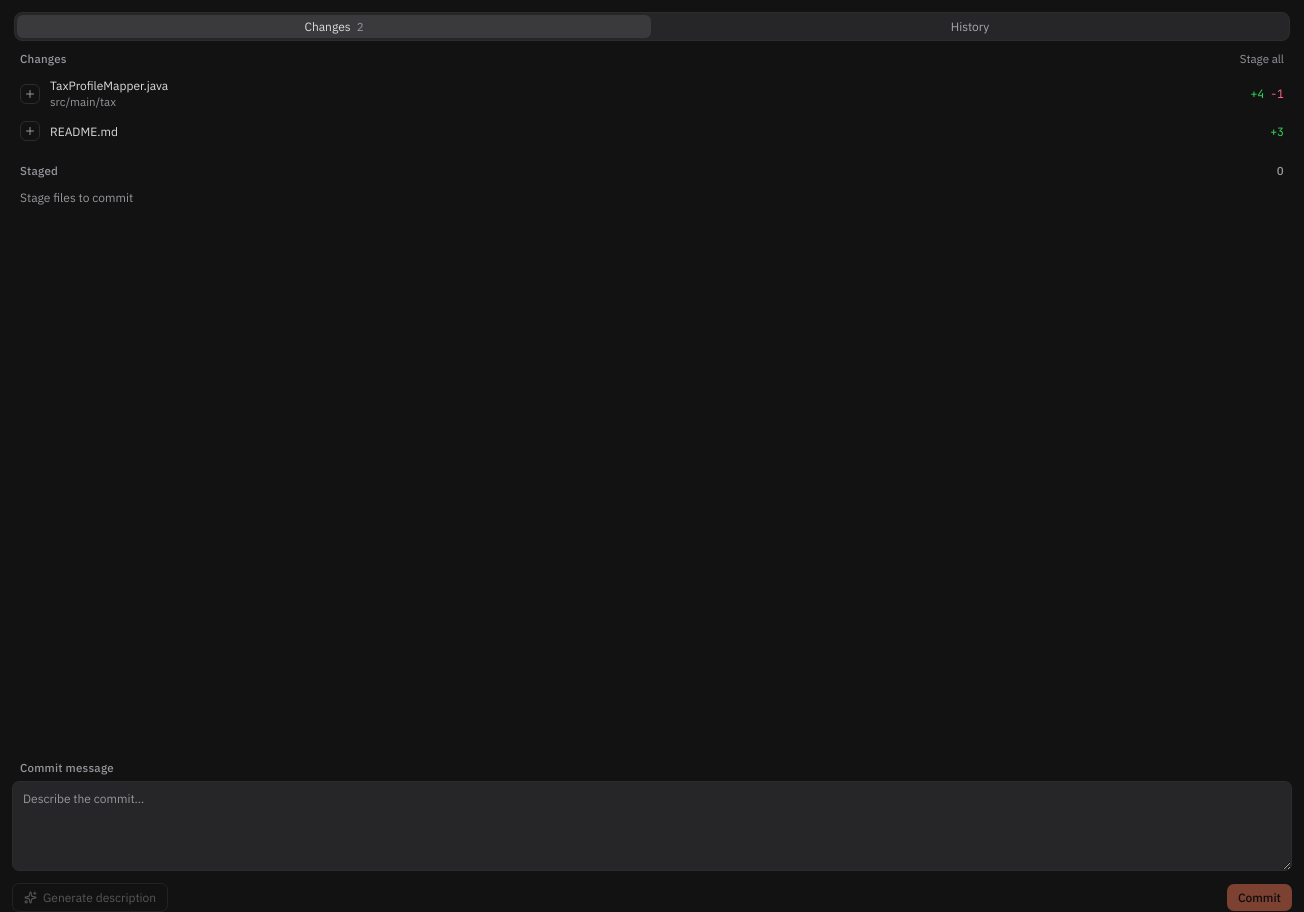
Scenario: ChangesPanel › Stage all stages every unstaged file at once
Click the button "Stage all".
click(1262, 58)  # box [1240,51,1284,66]
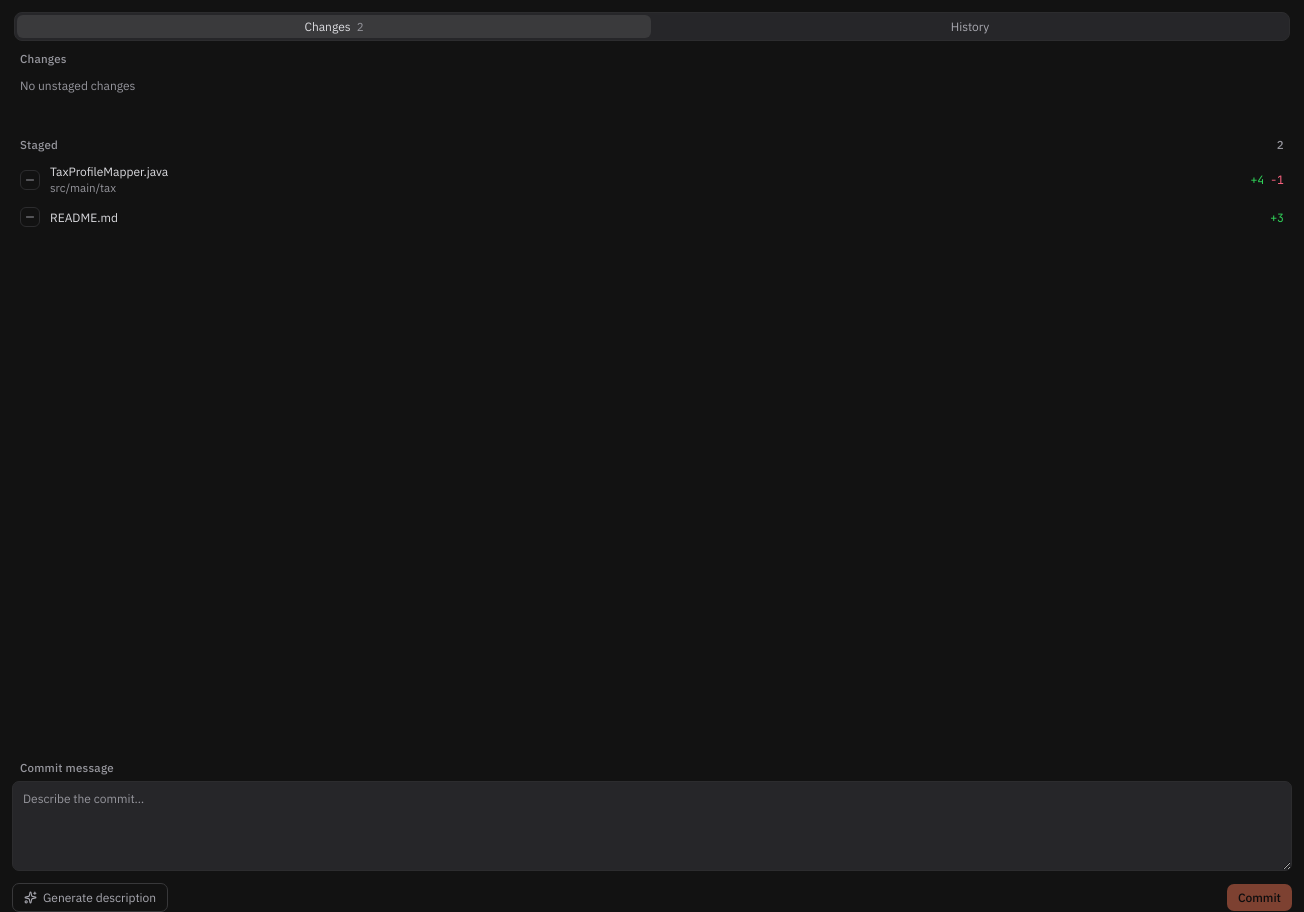
Result: the text "No unstaged changes" is shown at [20,78,136,93]
